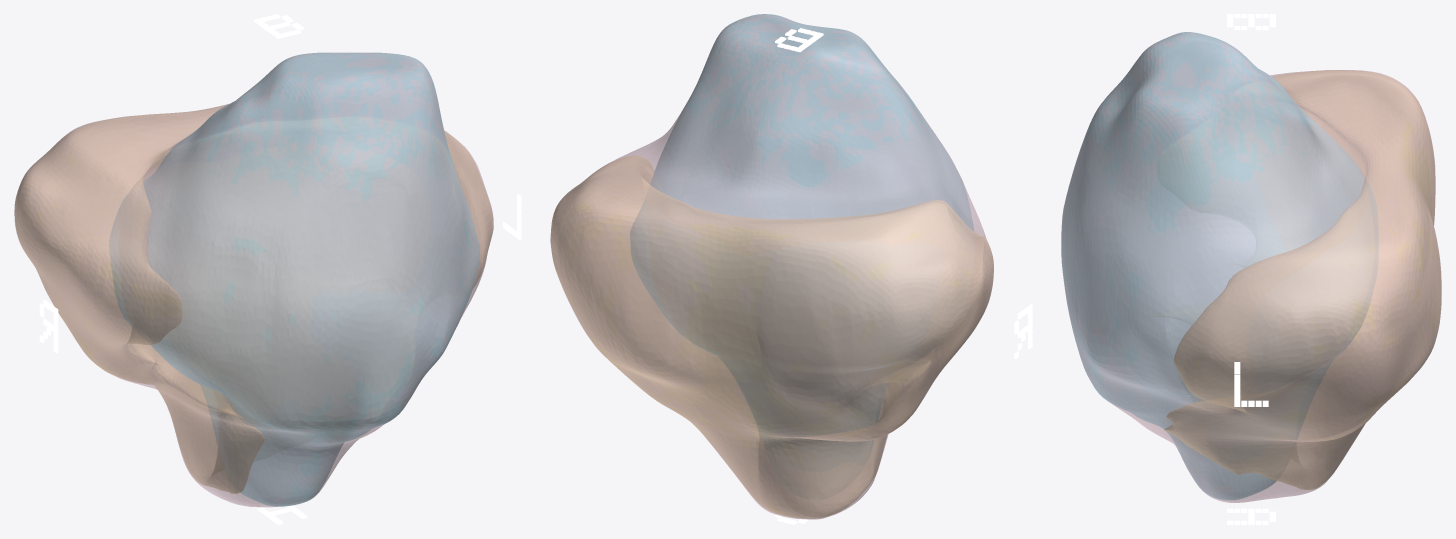
The picture shows the model from 3 angles, left to right: view 1: azimuth 30°, elevation 25°; view 2: azimuth 150°, elevation 25°; view 3: azimuth 270°, elevation 25°; orthographic projection. The views are drawn at different scales.
Parts seen in each view (by area): view 1: prostate_gland, transition_zone, peripheral_zone, pv_ar_marker_B, pv_ar_marker_R; view 2: prostate_gland, peripheral_zone, transition_zone, pv_ar_marker_B; view 3: prostate_gland, transition_zone, peripheral_zone, pv_ar_marker_B, pv_ar_marker_A, pv_ar_marker_L.
Boxes of the visible parts, <box> form: prostate_gland: <box>14,52,493,507</box>; transition_zone: <box>109,52,479,506</box>; peripheral_zone: <box>15,104,492,493</box>; pv_ar_marker_B: <box>254,14,303,38</box>; pv_ar_marker_R: <box>39,299,58,353</box>; prostate_gland: <box>550,14,993,519</box>; peripheral_zone: <box>550,156,993,518</box>; transition_zone: <box>630,14,973,457</box>; pv_ar_marker_B: <box>775,28,823,52</box>; prostate_gland: <box>1061,32,1441,502</box>; transition_zone: <box>1061,32,1378,500</box>; peripheral_zone: <box>1164,70,1441,489</box>; pv_ar_marker_B: <box>1227,14,1275,30</box>; pv_ar_marker_A: <box>1227,508,1275,524</box>; pv_ar_marker_L: <box>1234,362,1268,406</box>.
Size of the model in its own units: 0.0527 by 0.0529 by 0.0367.
